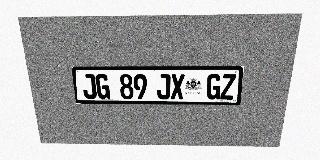8: (119, 74, 134, 99)
9: (133, 74, 147, 99)
G: (206, 74, 222, 99), (95, 74, 110, 99)
J: (81, 74, 97, 99), (157, 74, 170, 99)
X: (171, 74, 185, 99)
Z: (220, 74, 236, 100)
